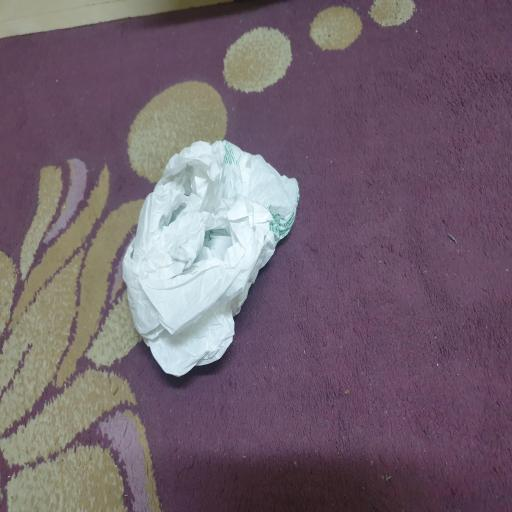plastic bag: (115, 134, 306, 391)
